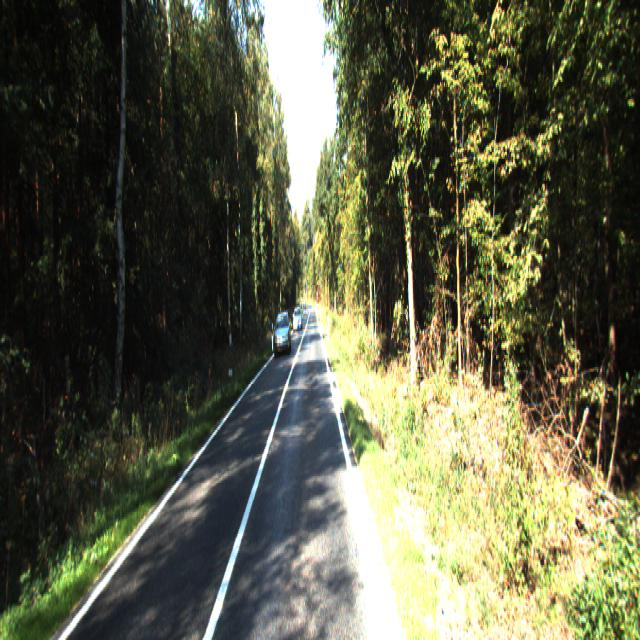Car: (272, 311, 291, 358)
